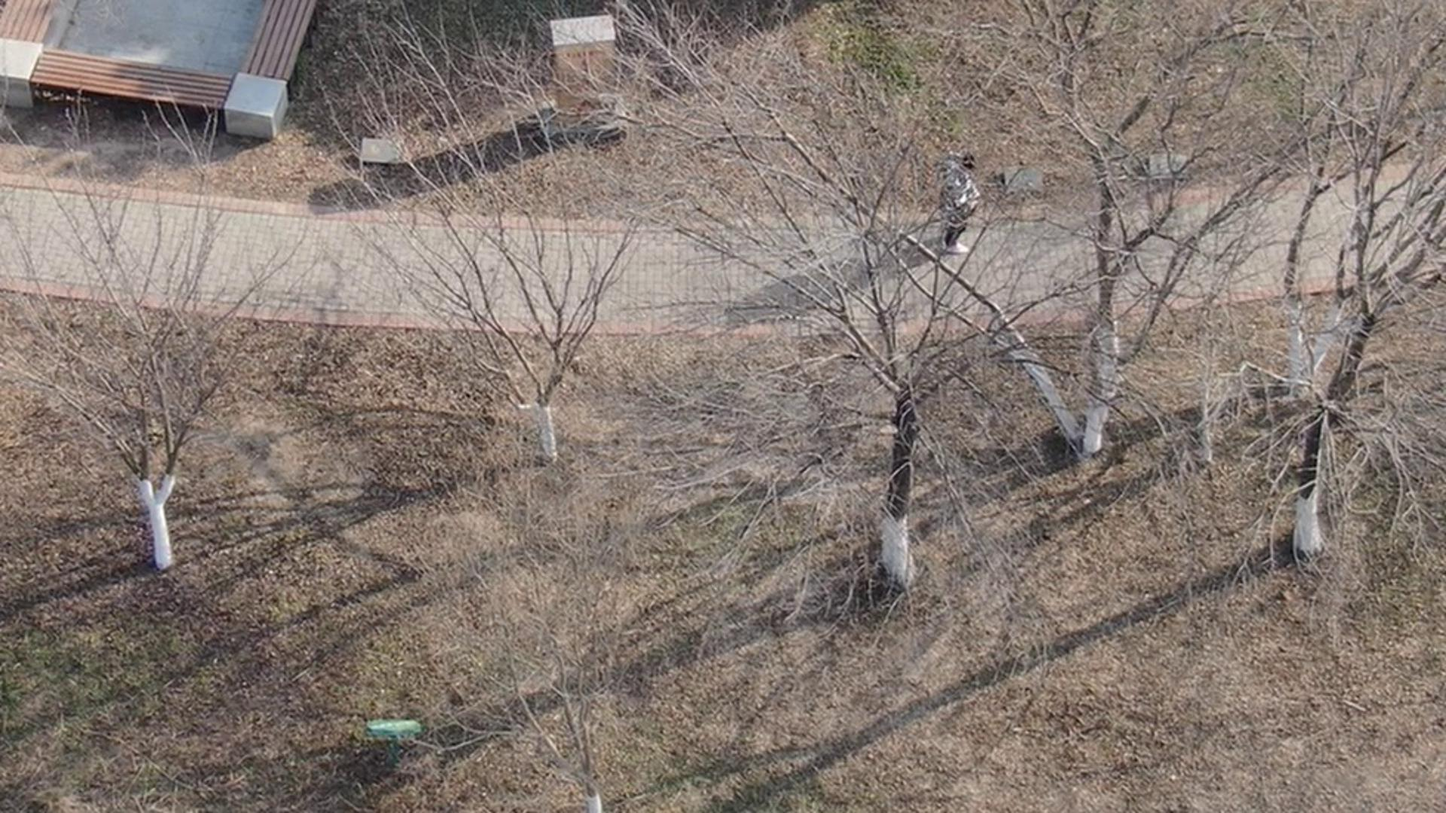human: (939, 172, 989, 281)
